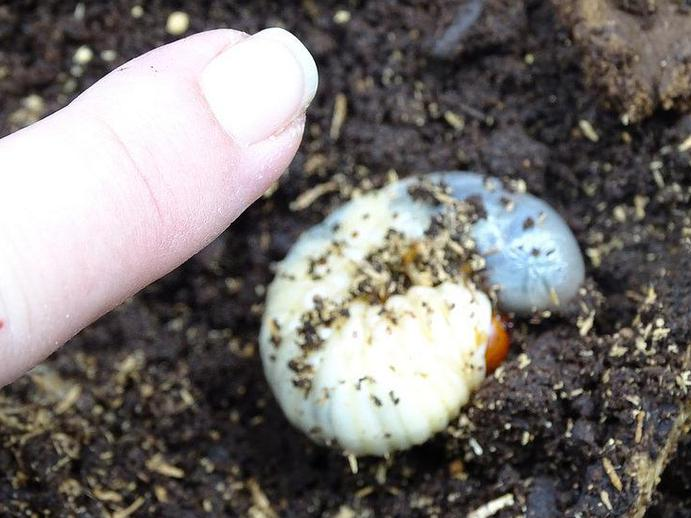grub: (260, 201, 595, 462)
